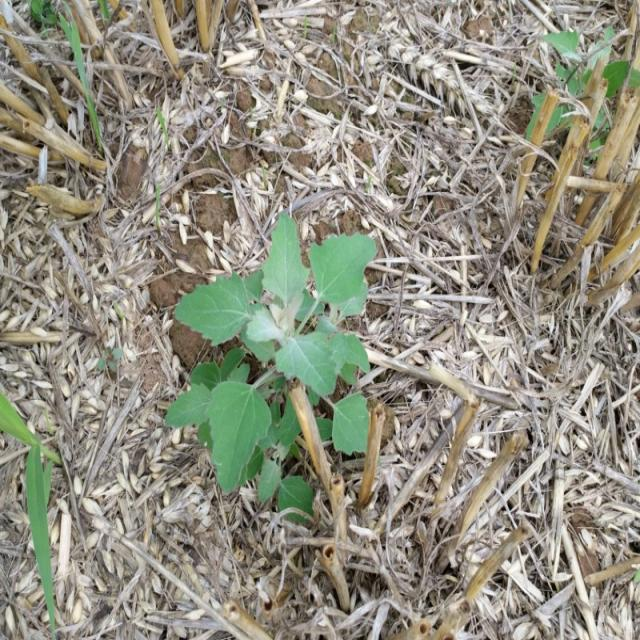goosefoots: (163, 214, 377, 468)
